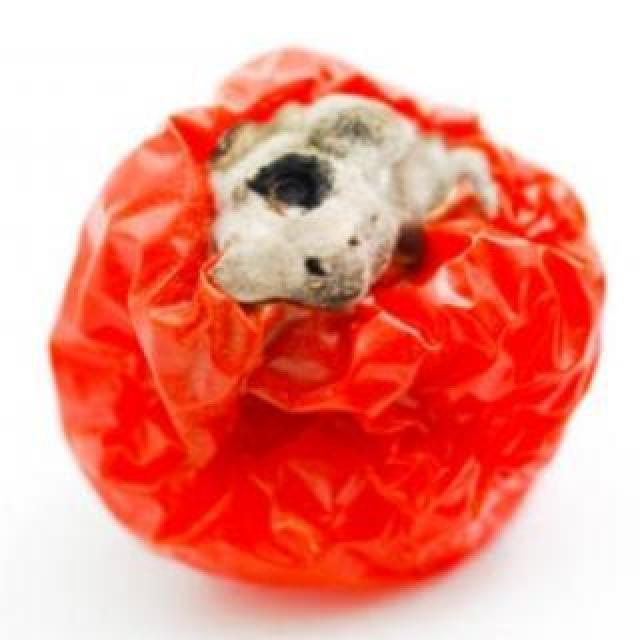Rotten_Tomato: (44, 38, 618, 606)
